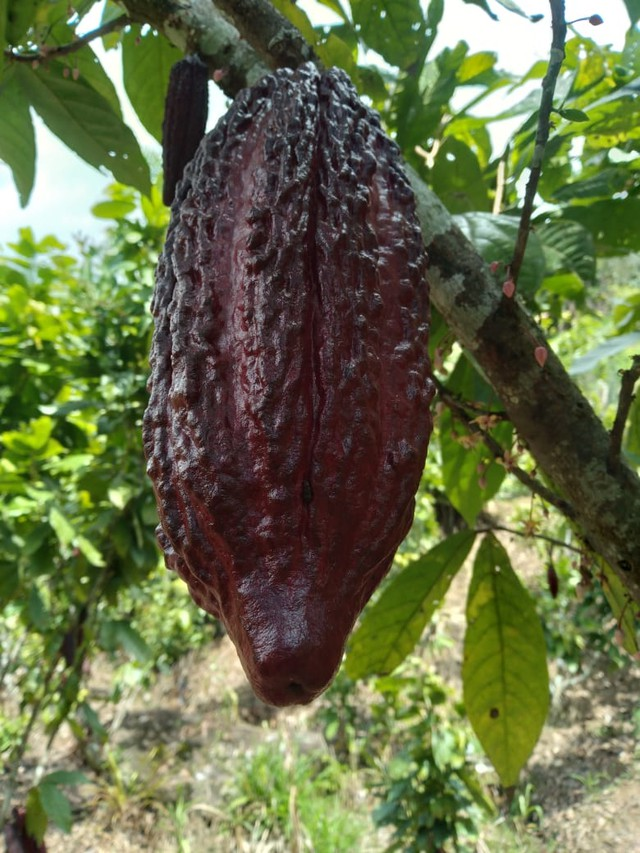Health: (132, 37, 458, 717), (91, 359, 133, 382)
